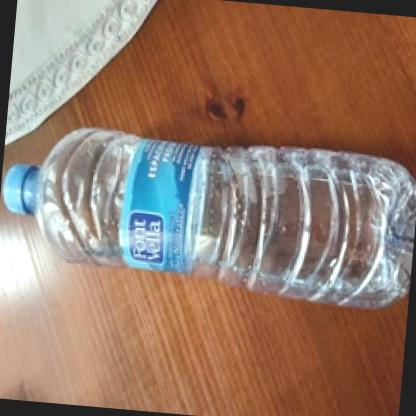plastic_bottles: (0, 119, 416, 308)
